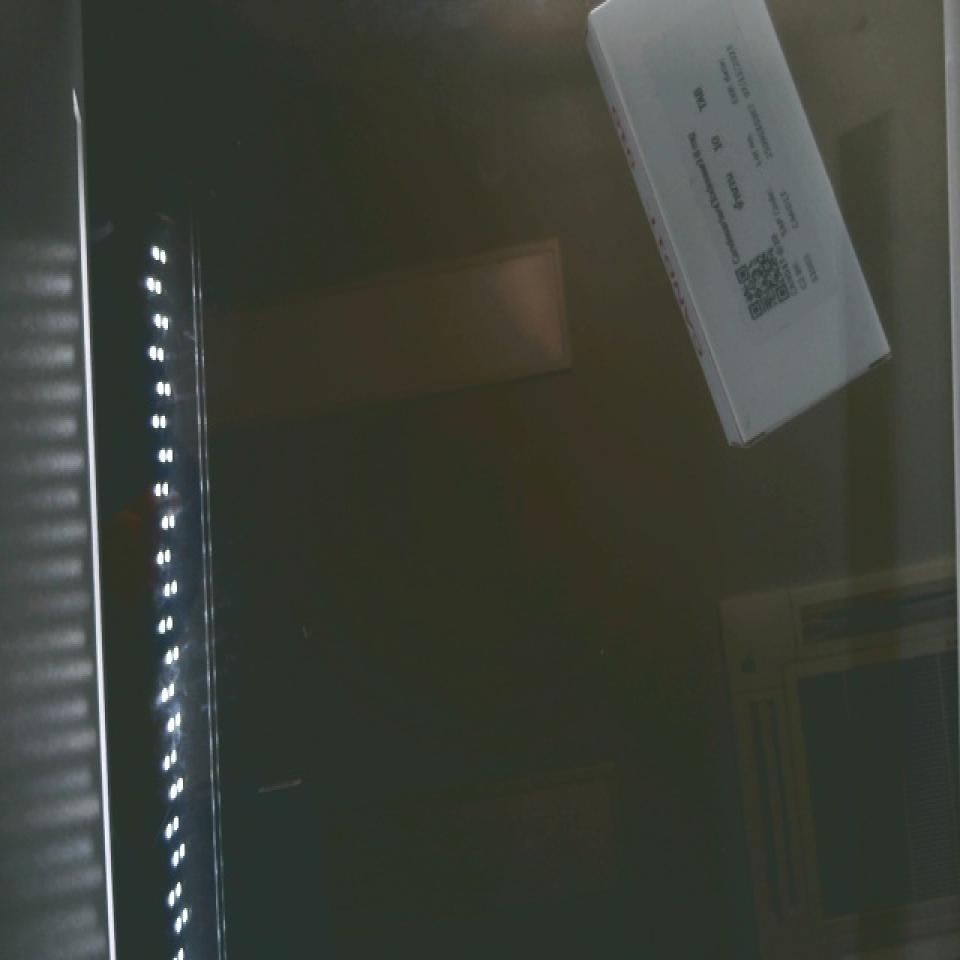medicine_box: (589, 0, 900, 442)
qr_code: (711, 228, 817, 342)
